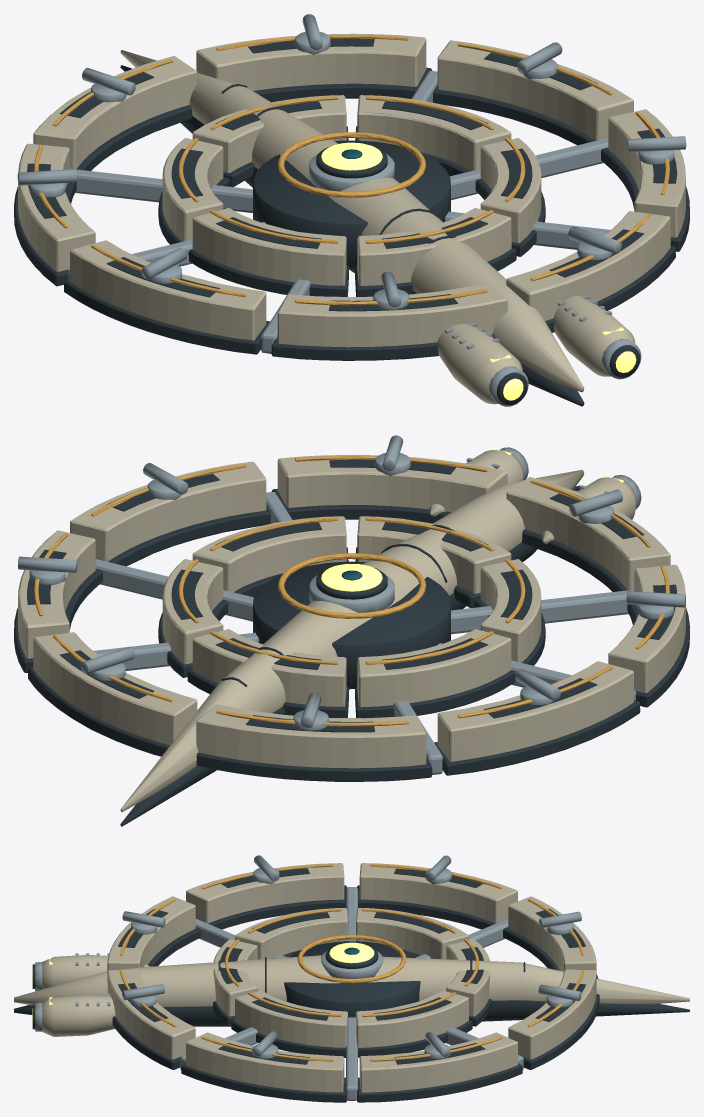
The model's file is boss-6.glb.
3 renders of one model, top to bottom at view 1: azimuth 30°, elevation 25°; view 2: azimuth 150°, elevation 25°; view 3: azimuth 270°, elevation 25°, orthographic. The views are drawn at different scales.
Parts seen in each view (by area): view 1: SM_Rotor0, SM_Hull, SM_Rotor1, SM_Weapon_Right, SM_Engine_Left, SM_Engine_Right; view 2: SM_Rotor0, SM_Hull, SM_Rotor1, SM_Weapon_Right, SM_Engine_Left, SM_Engine_Right; view 3: SM_Rotor0, SM_Hull, SM_Rotor1, SM_Weapon_Right, SM_Engine_Right, SM_Engine_Left.
Part boxes in pixels (bbox=[...]): SM_Rotor0: bbox=[14, 33, 689, 360]; SM_Hull: bbox=[67, 50, 610, 406]; SM_Rotor1: bbox=[158, 95, 545, 296]; SM_Weapon_Right: bbox=[17, 14, 686, 309]; SM_Engine_Left: bbox=[437, 323, 528, 406]; SM_Engine_Right: bbox=[553, 295, 641, 379]; SM_Rotor0: bbox=[14, 455, 689, 781]; SM_Hull: bbox=[94, 470, 636, 826]; SM_Rotor1: bbox=[158, 516, 545, 718]; SM_Weapon_Right: bbox=[18, 435, 685, 730]; SM_Engine_Left: bbox=[542, 475, 641, 543]; SM_Engine_Right: bbox=[429, 447, 528, 516]; SM_Rotor0: bbox=[107, 863, 599, 1102]; SM_Hull: bbox=[14, 887, 689, 1100]; SM_Rotor1: bbox=[213, 908, 491, 1057]; SM_Weapon_Right: bbox=[122, 855, 581, 1058]; SM_Engine_Right: bbox=[32, 993, 115, 1036]; SM_Engine_Left: bbox=[32, 953, 149, 991].
Size of the model in its own units: 7.48 by 1.2 by 10.2.
